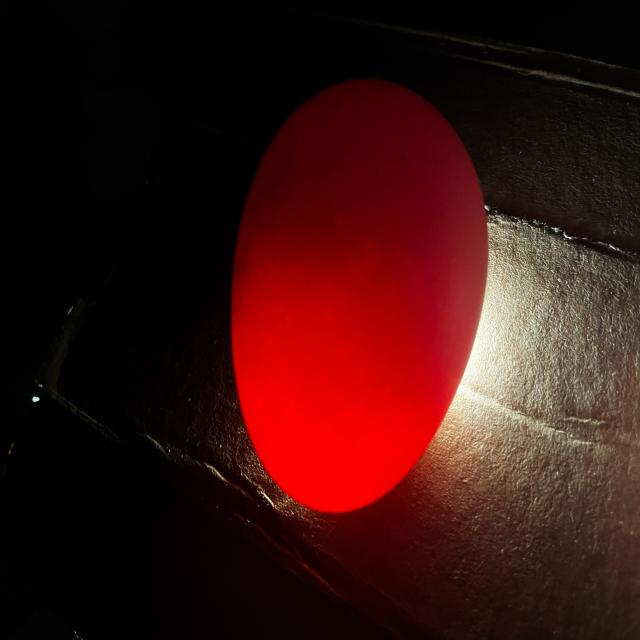fertile: (231, 80, 487, 512)
